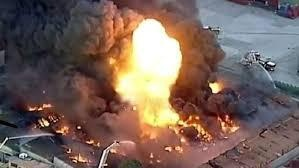fire: (111, 17, 191, 139), (23, 99, 67, 136), (216, 111, 239, 135), (206, 79, 224, 94)
